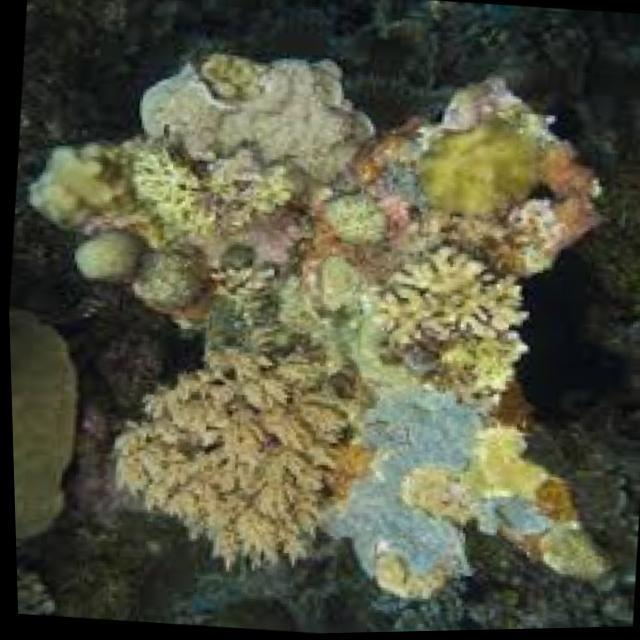Dead Coral: (133, 33, 378, 189)
